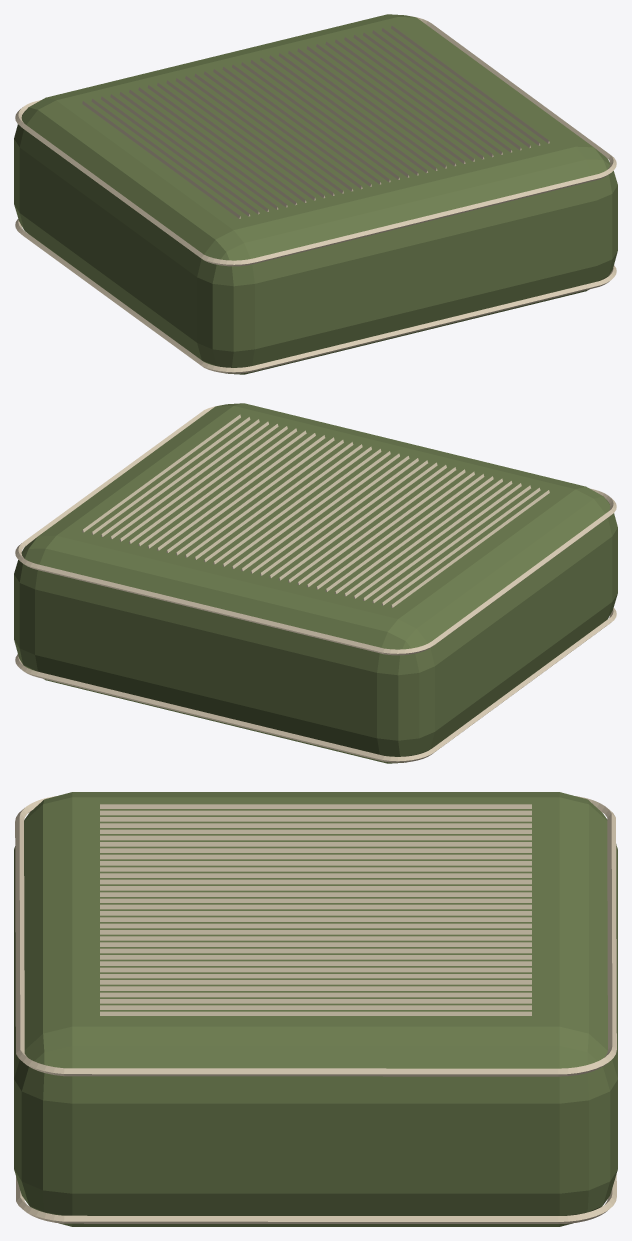
The model's file is pillow_square_45_olive.fbx.
3 views of the same model, one above another, from view 1: azimuth 30°, elevation 25°; view 2: azimuth 150°, elevation 25°; view 3: azimuth 270°, elevation 25° (orthographic). The views are drawn at different scales.
Parts seen in each view (by area): view 1: pillow_square_45_olive; view 2: pillow_square_45_olive; view 3: pillow_square_45_olive.
Boxes of the visible parts, x1,y1,x2,y2 form: pillow_square_45_olive: (14, 14, 617, 374); pillow_square_45_olive: (14, 403, 617, 763); pillow_square_45_olive: (14, 792, 617, 1226).
Size of the model in its own units: 0.48 by 0.16 by 0.44.
